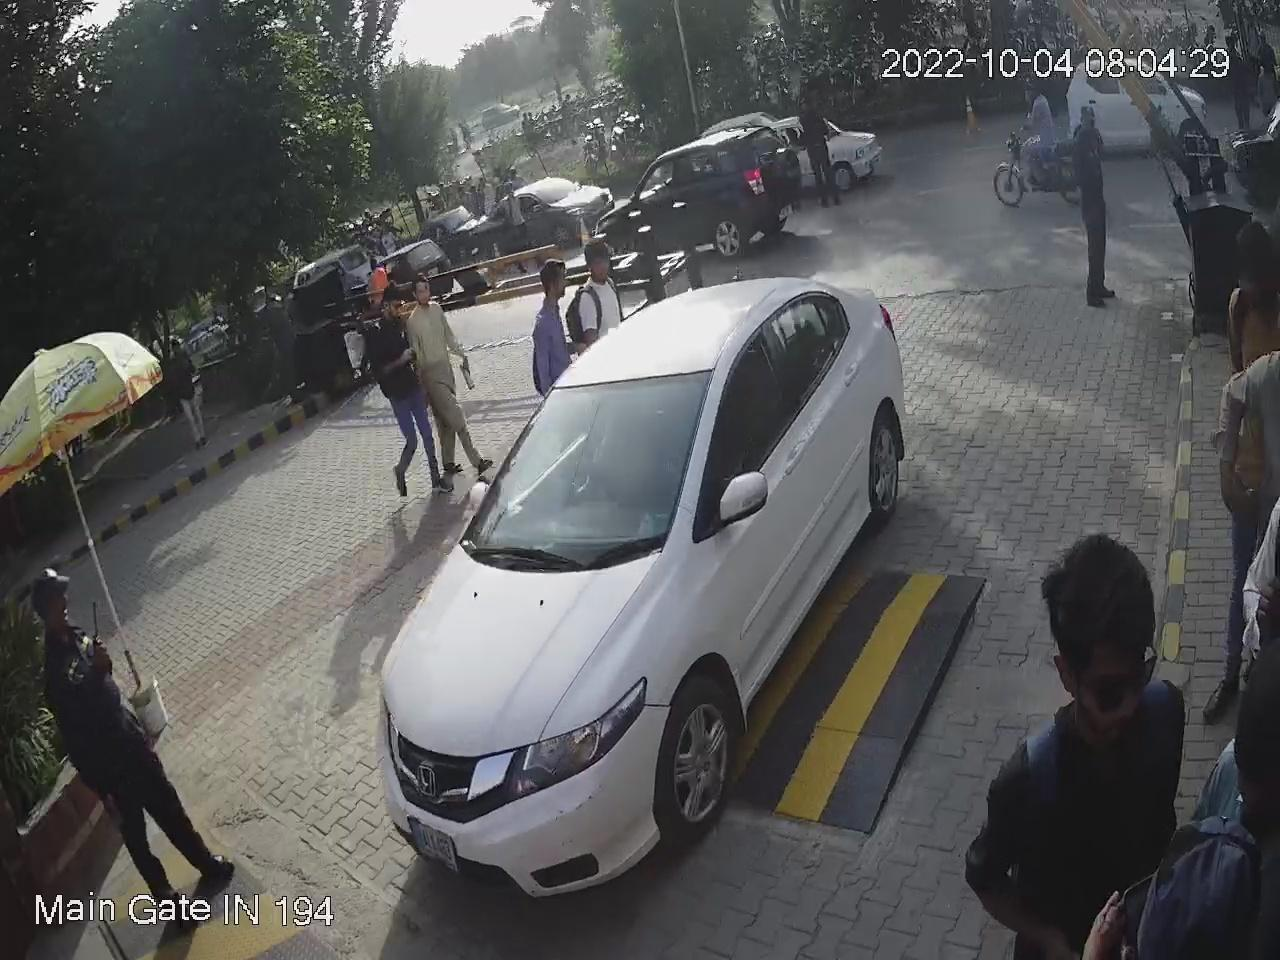windshield: (456, 360, 719, 568)
